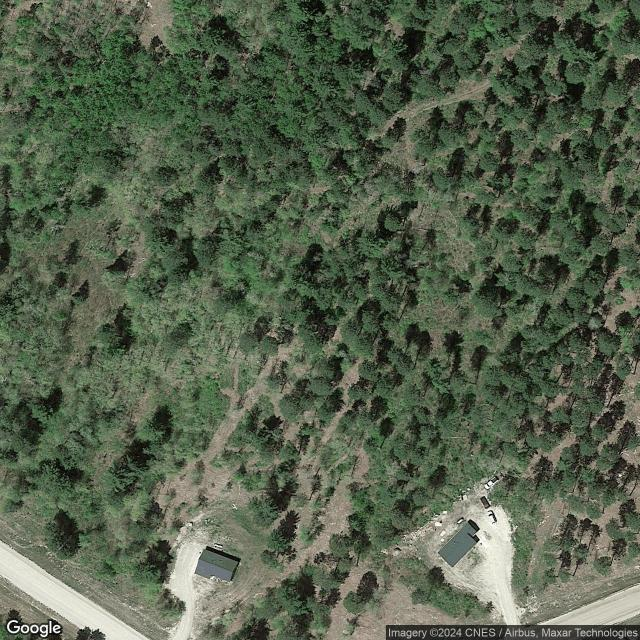Propane: (456, 516, 465, 526), (214, 542, 224, 549)
